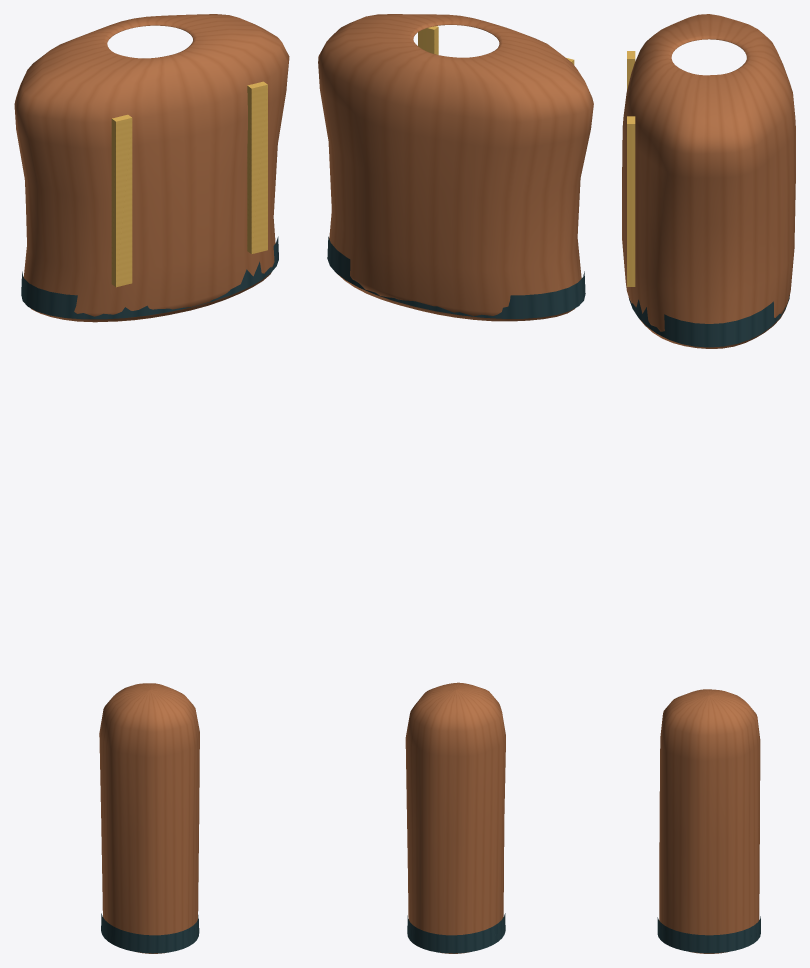
Rendered from track_jacket.gltf.
The picture shows the model from 3 angles, left to right: view 1: azimuth 30°, elevation 25°; view 2: azimuth 150°, elevation 25°; view 3: azimuth 270°, elevation 25°; orthographic projection.
Parts seen in each view (by area): view 1: Torso, SleeveL; view 2: Torso, SleeveL; view 3: Torso, SleeveL.
Part boxes in pixels (<box>): Torso: <box>14,14,289,322</box>; SleeveL: <box>99,683,199,953</box>; Torso: <box>318,14,593,321</box>; SleeveL: <box>405,682,505,953</box>; Torso: <box>622,14,795,348</box>; SleeveL: <box>657,689,760,953</box>.
Bounding box in the file's own units: 0.5276 × 1.73 × 0.3093.
Materials: 3 (3 with a texture image).
